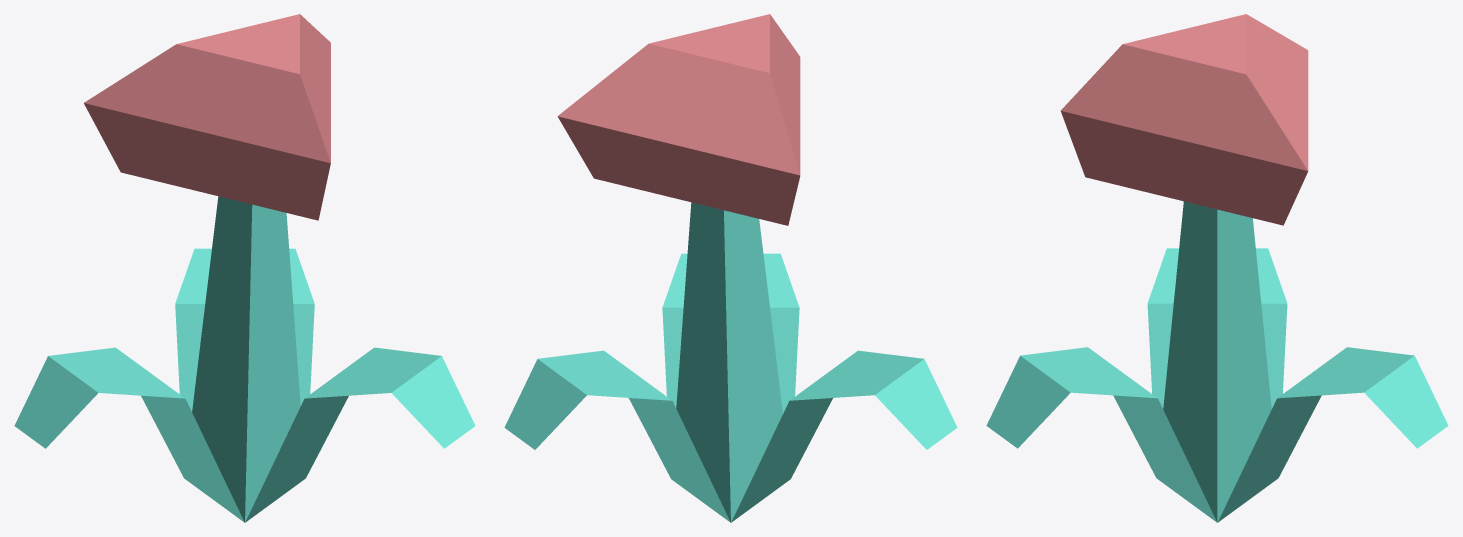
Rendered from kn_flower_redB.glb.
3 renders of one model, left to right at view 1: azimuth 30°, elevation 25°; view 2: azimuth 150°, elevation 25°; view 3: azimuth 270°, elevation 25°, orthographic.
Visible parts, largest first — view 1: flower_redB; view 2: flower_redB; view 3: flower_redB.
Part boxes in pixels (bbox=[...]): flower_redB: bbox=[14, 14, 475, 522]; flower_redB: bbox=[504, 14, 957, 522]; flower_redB: bbox=[986, 14, 1448, 522].
Size of the model in its own units: 0.2022 by 0.2521 by 0.2333.
